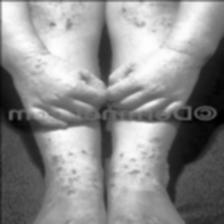Non-Cancerous Skin Condition: (108, 136, 170, 196), (37, 146, 92, 198), (27, 0, 81, 38), (115, 0, 171, 28)
